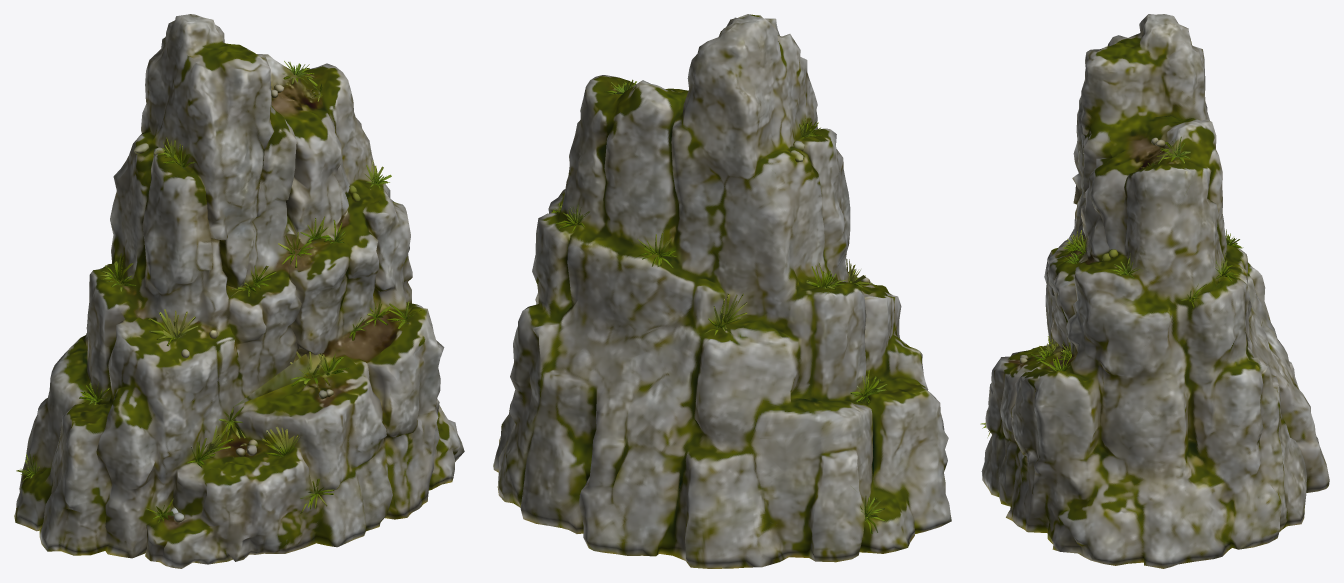
The model's file is Meshy_AI_Rock_Formation_Center_20261104_texture.fbx.
3 views of the same model, side by side, from view 1: azimuth 30°, elevation 25°; view 2: azimuth 150°, elevation 25°; view 3: azimuth 270°, elevation 25° (orthographic). The views are drawn at different scales.
Parts seen in each view (by area): view 1: geometry_0; view 2: geometry_0; view 3: geometry_0.
Boxes of the visible parts, x1,y1,x2,y2 form: geometry_0: [14, 14, 464, 568]; geometry_0: [493, 14, 951, 568]; geometry_0: [980, 14, 1329, 568].
Size of the model in its own units: 87.89 by 95.26 by 68.51.
1 material, 1 textured.
